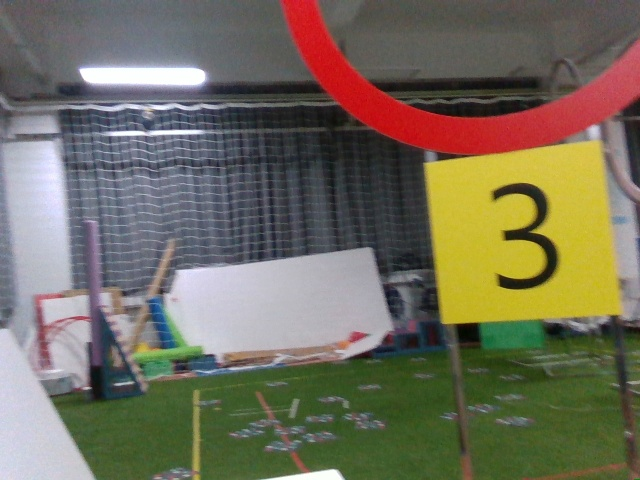target: (429, 151, 616, 319)
